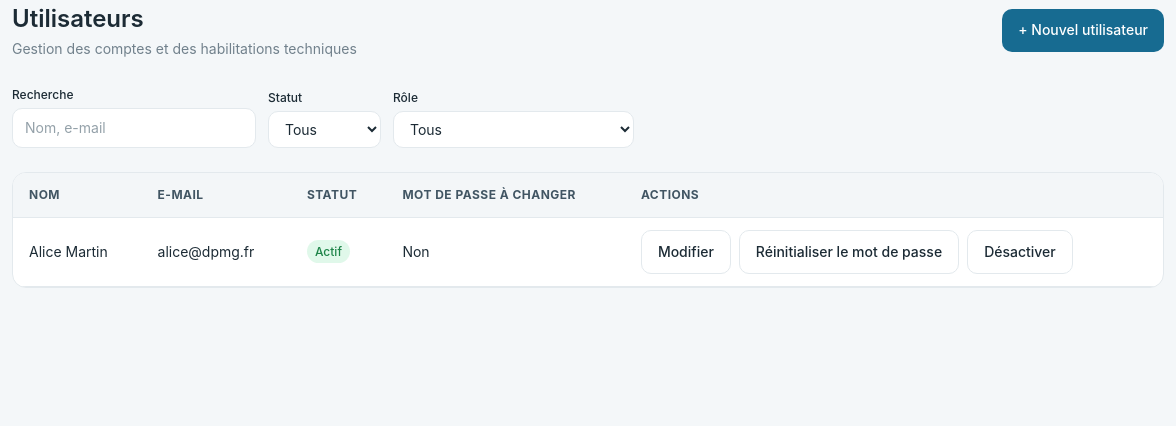
la réinitialisation de mot de passe affiche le mot de passe temporaire puis le consolide
Later steps or results of the test are not shown.
Click the button with test id "btn-reset-password-u1".
click(849, 252)  # box [739,230,959,274]
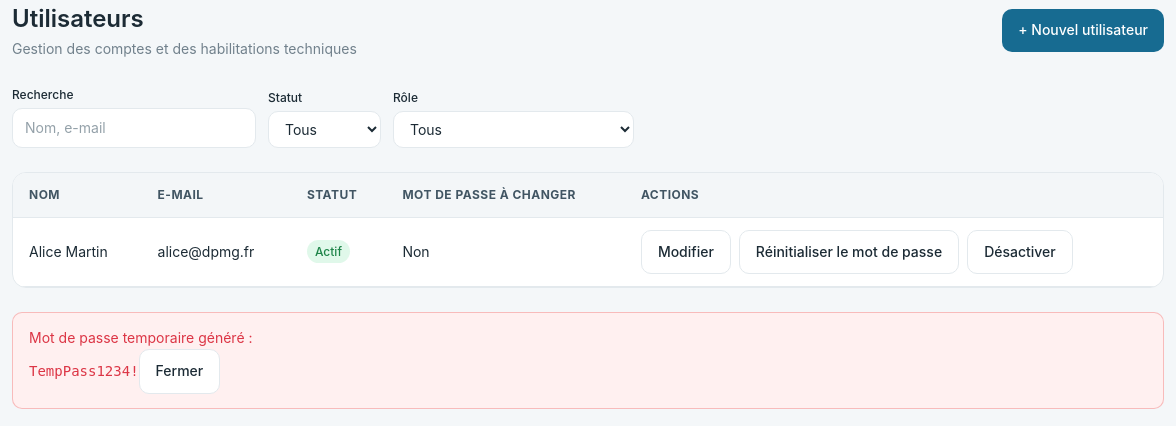
Expected: the button "Fermer" is shown, [139,349,220,394]
